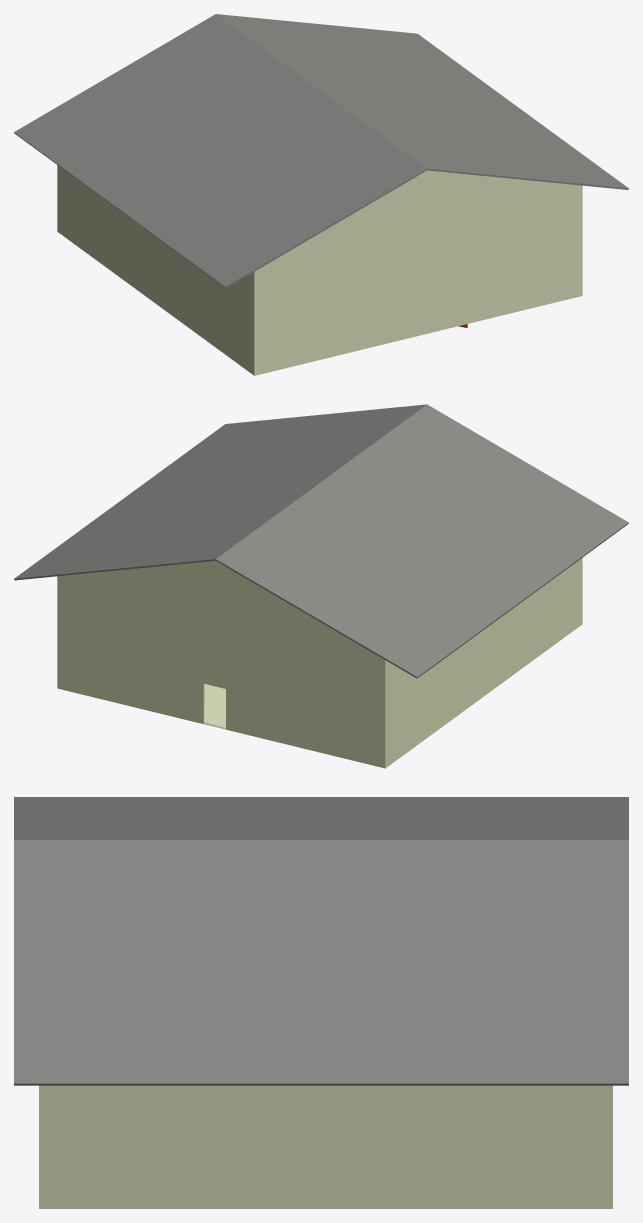
File: House.fbx
3 views of the same model, one above another, from view 1: azimuth 30°, elevation 25°; view 2: azimuth 150°, elevation 25°; view 3: azimuth 270°, elevation 25° (orthographic). The views are drawn at different scales.
Parts seen in each view (by area): view 1: Roof, Walls; view 2: Roof, Walls; view 3: Roof, Walls.
Part boxes in pixels (left/top/right/bottom): Roof: left=14, top=14, right=628, bottom=287; Walls: left=57, top=165, right=582, bottom=375; Roof: left=14, top=404, right=628, bottom=678; Walls: left=57, top=558, right=582, bottom=768; Roof: left=14, top=797, right=628, bottom=1085; Walls: left=39, top=1085, right=612, bottom=1208.
Bounding box in the file's own units: 2519 × 1067 × 2285.
